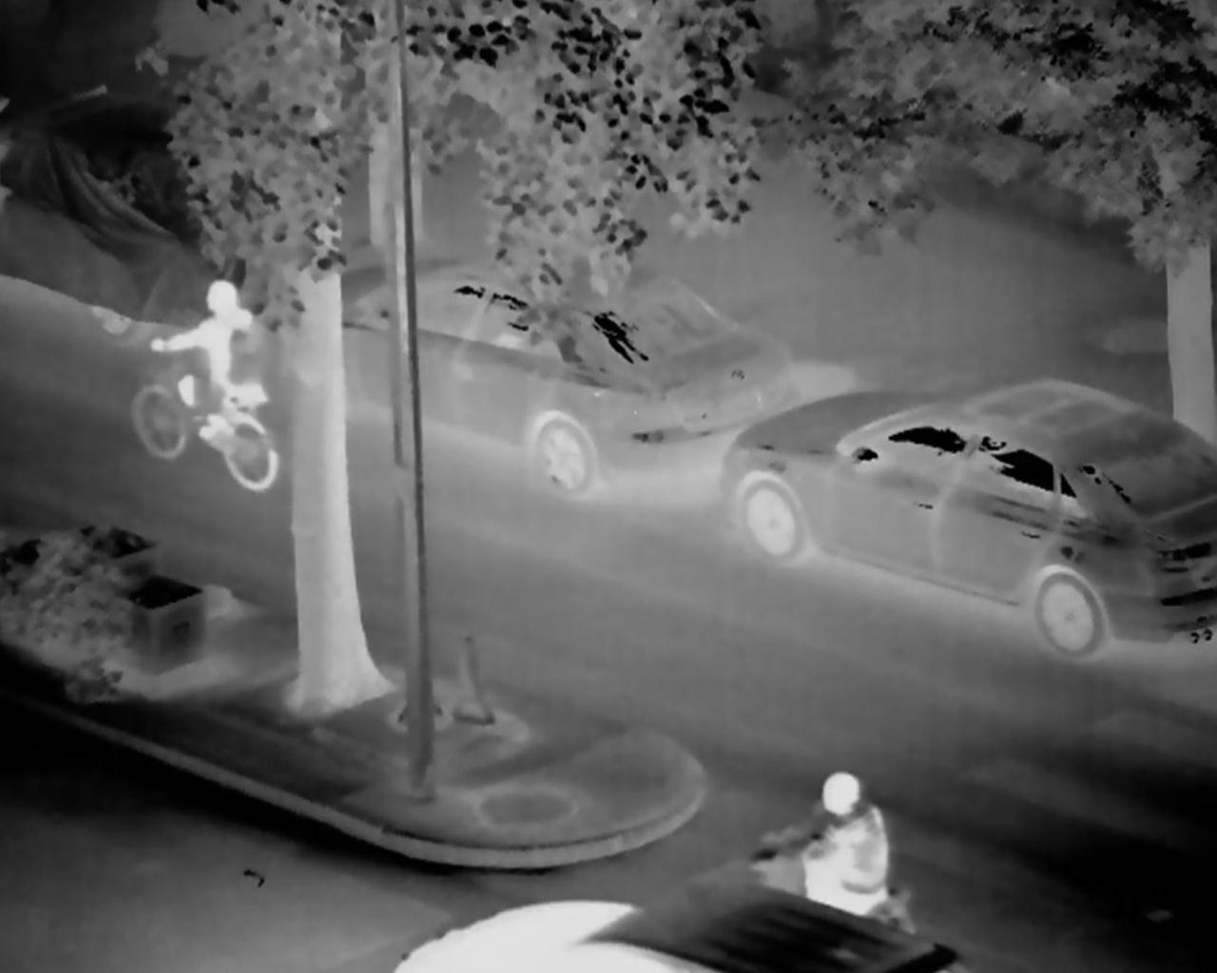person: (767, 765, 902, 929), (151, 285, 269, 470)
